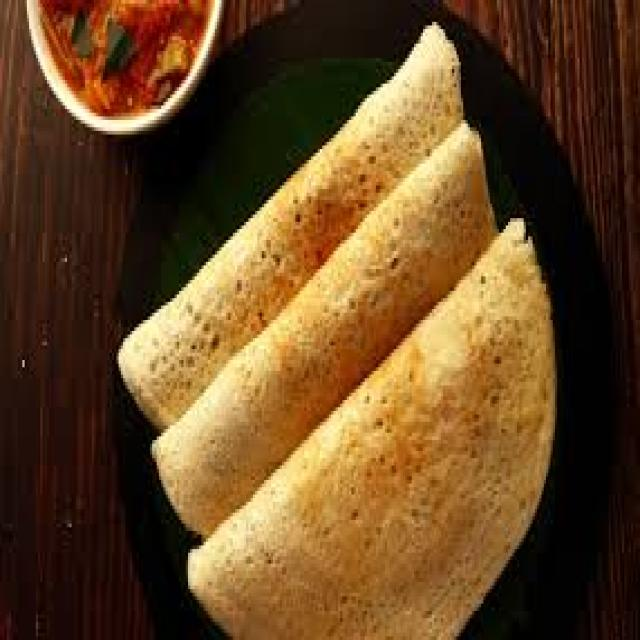DOSA: (187, 215, 557, 636), (115, 20, 465, 426), (154, 119, 497, 529)
